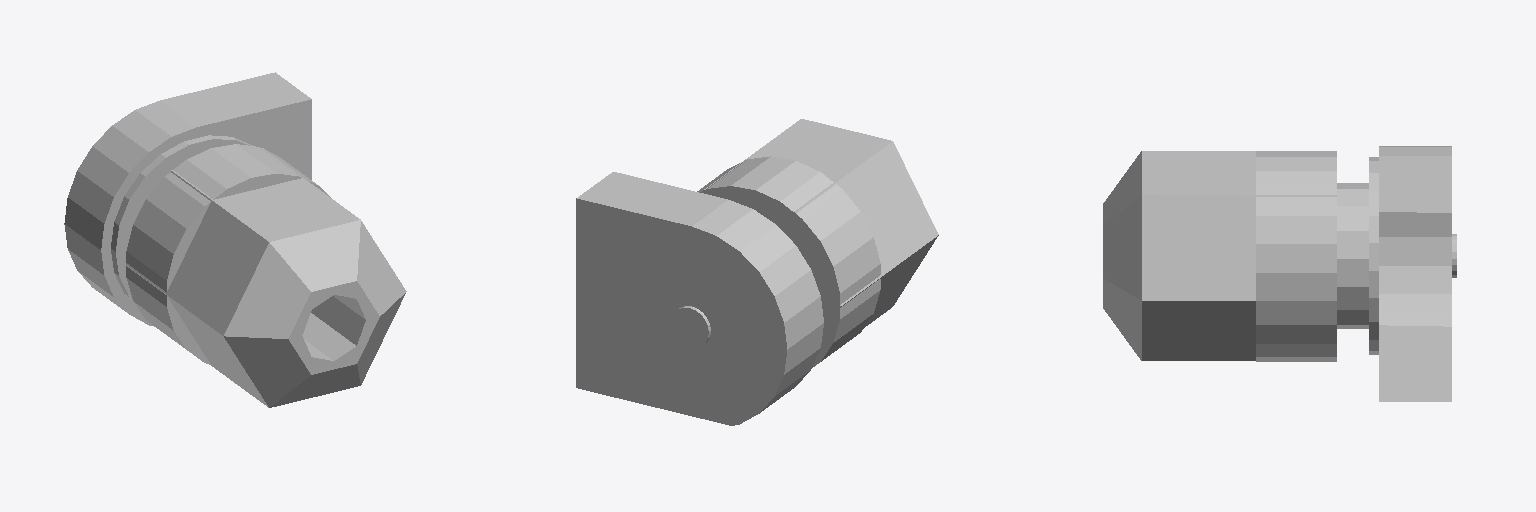
The model's file is bornera.obj.
The picture shows the model from 3 angles: view 1: azimuth 30°, elevation 25°; view 2: azimuth 150°, elevation 25°; view 3: azimuth 270°, elevation 25°; orthographic projection.
Parts seen in each view (by area): view 1: mmGroup0; view 2: mmGroup0; view 3: mmGroup0, mmGroup1.
Boxes of the visible parts, box(x1,y1,x2,y2) form: mmGroup0: box(64, 72, 406, 407); mmGroup0: box(576, 119, 938, 425); mmGroup0: box(1103, 146, 1456, 361); mmGroup1: box(1379, 325, 1451, 401).
Size of the model in its own units: 16.58 by 14.26 by 24.02.